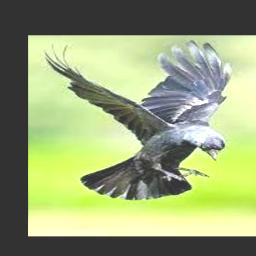Crow: (41, 40, 231, 199)
